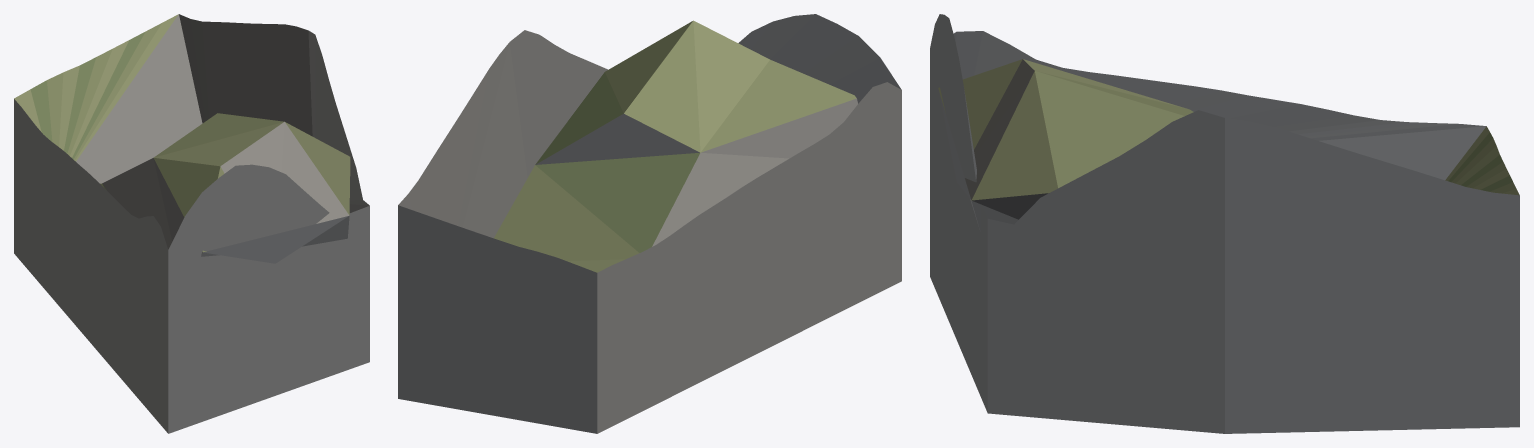
Rendered from cliff_shadow_buttress.glb.
3 renders of one model, left to right at view 1: azimuth 30°, elevation 25°; view 2: azimuth 150°, elevation 25°; view 3: azimuth 270°, elevation 25°, orthographic. The views are drawn at different scales.
Parts seen in each view (by area): view 1: cliff_shadow_buttress; view 2: cliff_shadow_buttress; view 3: cliff_shadow_buttress.
Part boxes in pixels (x1,y1,x2,y2): cliff_shadow_buttress: [14, 14, 369, 433]; cliff_shadow_buttress: [398, 14, 901, 433]; cliff_shadow_buttress: [930, 14, 1519, 433].
Bounding box in the file's own units: 66.83 × 63.82 × 106.
